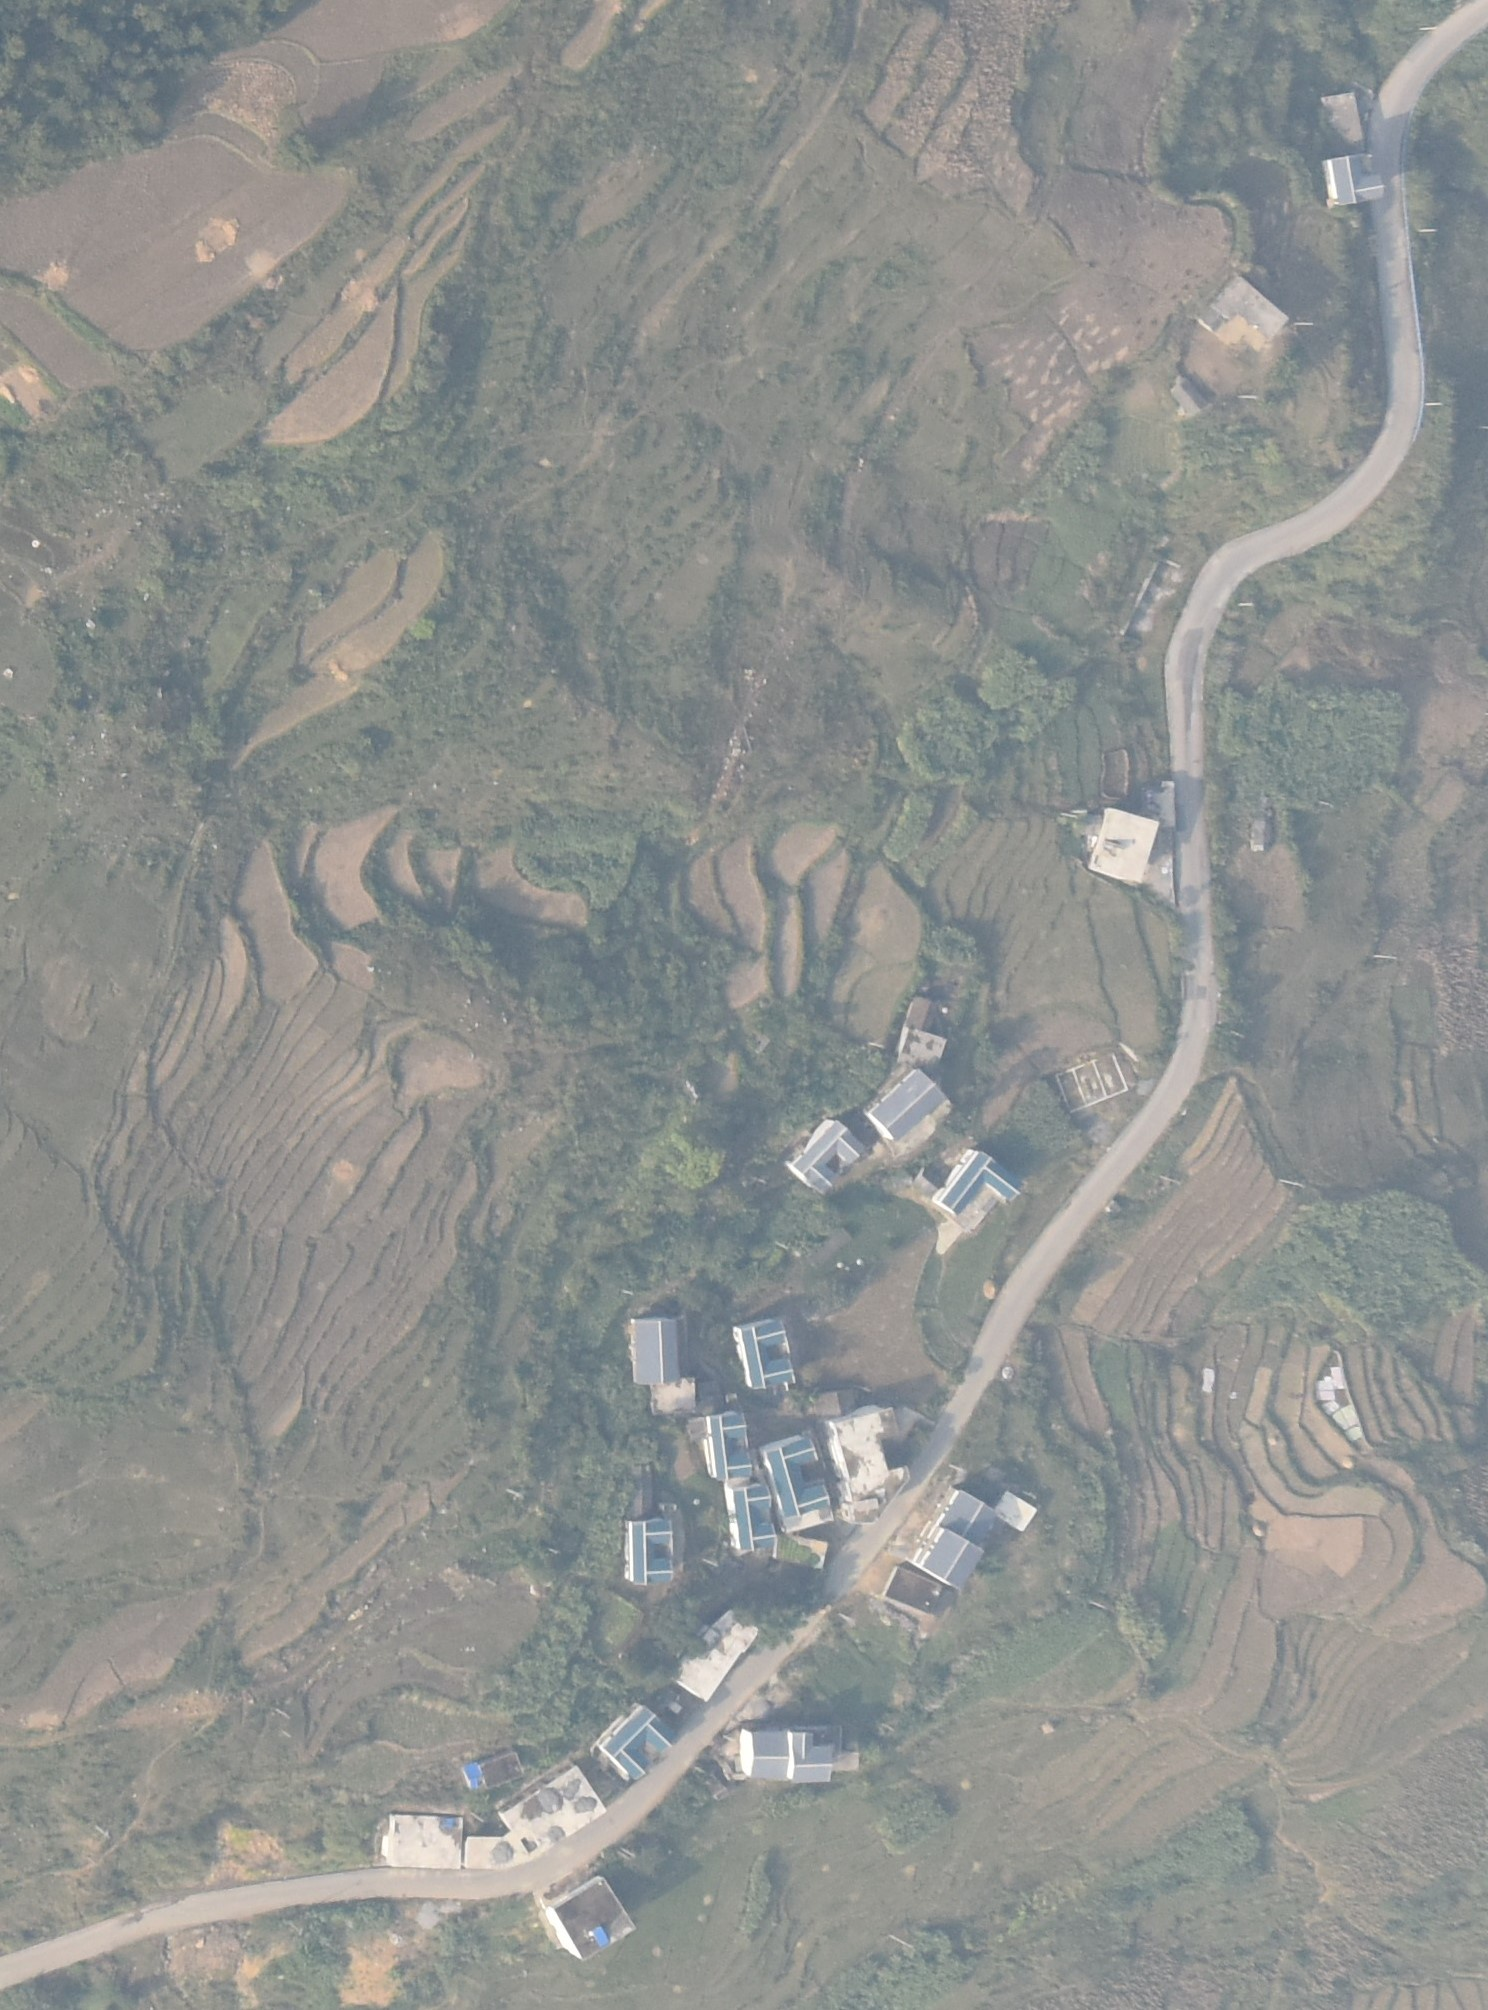building: (470, 1749, 636, 1872), (824, 1405, 911, 1530), (908, 1483, 1003, 1596), (535, 1869, 638, 1966), (675, 1602, 766, 1708), (372, 1796, 474, 1880), (733, 1726, 866, 1788), (763, 1436, 839, 1538), (1196, 278, 1300, 350), (1075, 807, 1164, 891), (866, 1064, 955, 1147), (935, 1147, 1030, 1221), (596, 1711, 688, 1786), (778, 1114, 861, 1193), (613, 1307, 685, 1388), (731, 1314, 799, 1393), (875, 1561, 953, 1629), (1315, 150, 1394, 216), (621, 1508, 681, 1591), (717, 1483, 783, 1560), (1308, 88, 1375, 159), (699, 1411, 760, 1483), (896, 1025, 950, 1078), (771, 1532, 835, 1575), (458, 1752, 527, 1791), (996, 1488, 1046, 1536), (1161, 377, 1218, 419), (810, 1388, 874, 1422), (892, 996, 943, 1036)
